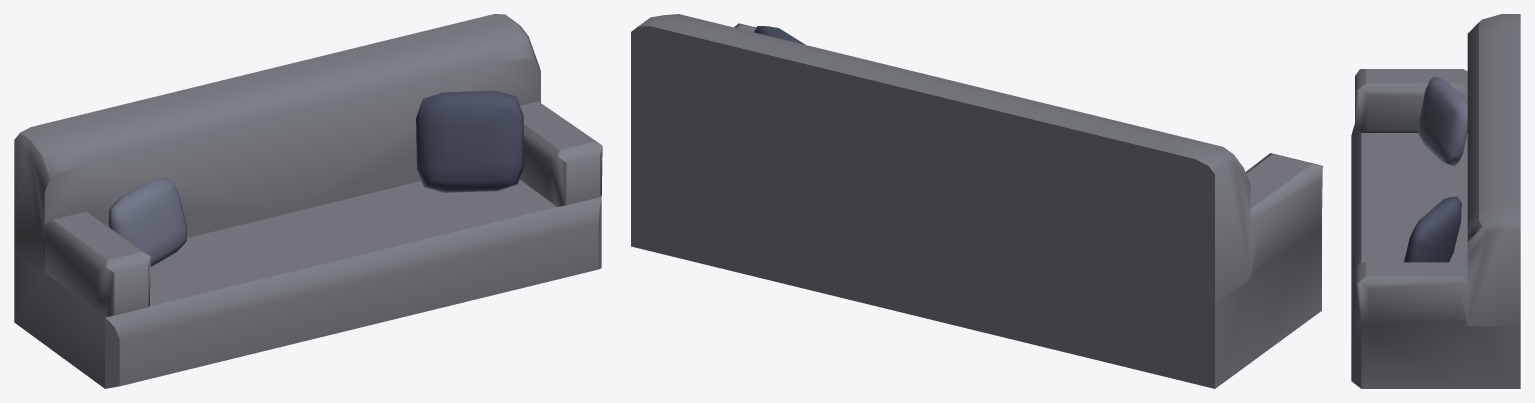
File: sofa.fbx
The picture shows the model from 3 angles, left to right: view 1: azimuth 30°, elevation 25°; view 2: azimuth 150°, elevation 25°; view 3: azimuth 270°, elevation 25°; orthographic projection. The views are drawn at different scales.
Parts seen in each view (by area): view 1: 소파; view 2: 소파; view 3: 소파.
Boxes of the visible parts, x1,y1,x2,y2 form: 소파: [14, 14, 602, 388]; 소파: [631, 14, 1322, 388]; 소파: [1351, 14, 1520, 388].
Size of the model in its own units: 41.35 by 15.01 by 13.74.
